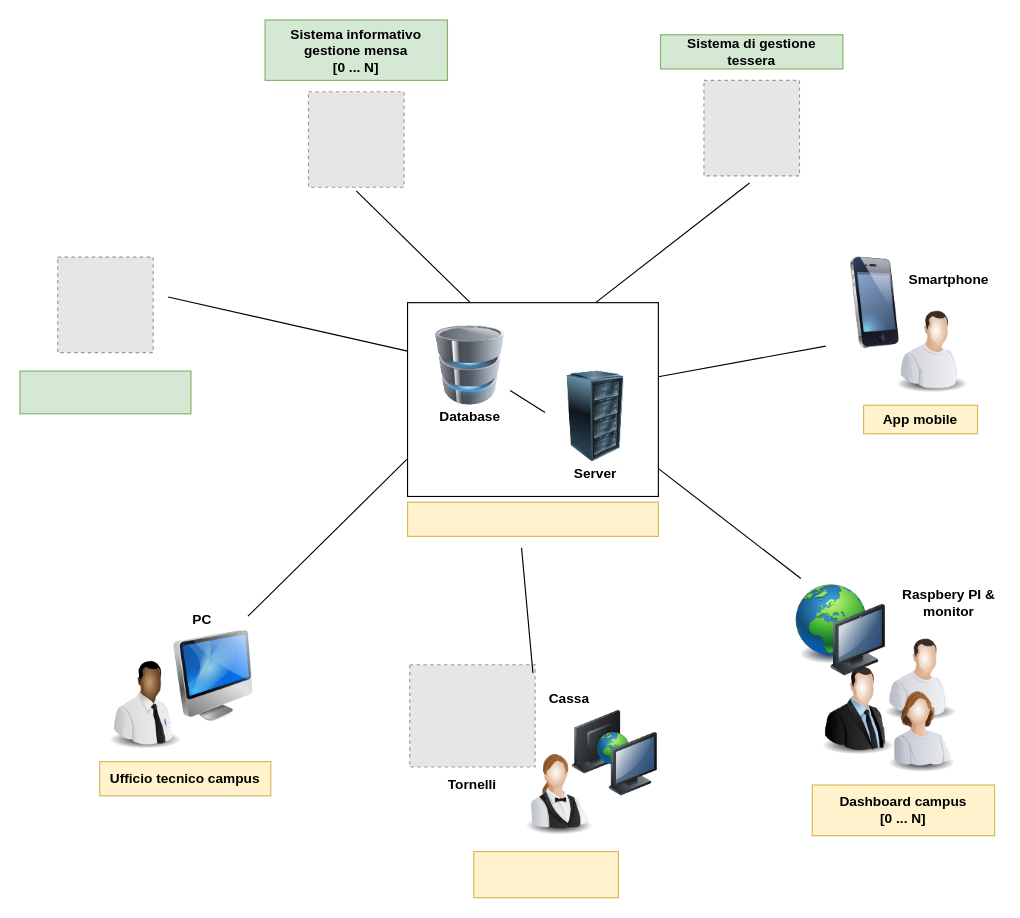
Some shapes in this 1020 by 918 pixel diagram are drawn without their labels. Grey dashed boxes stand in for pictures. Each missing label, with the box of its shape:
Mensa [0 ... N]: (473, 850, 618, 898)
Sistema informativo centrale: (406, 501, 658, 536)
Sistema informativo universitario: (19, 370, 191, 414)
